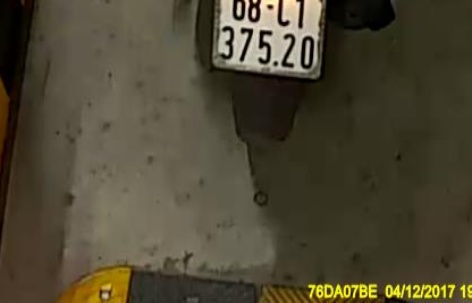plate: (212, 0, 324, 79)
